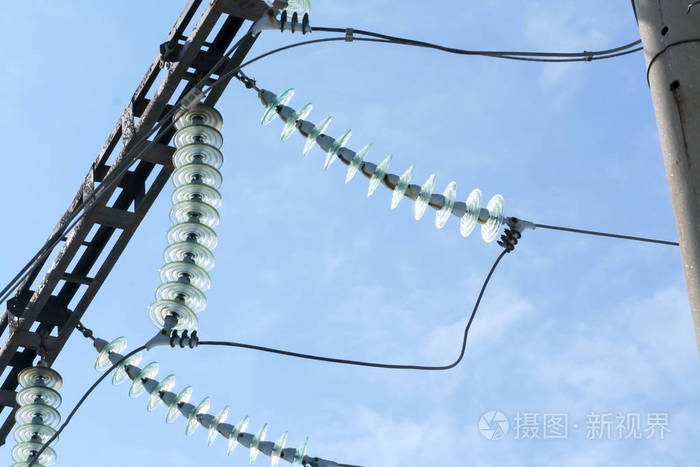insulator: (259, 85, 505, 245), (93, 335, 314, 467), (146, 97, 231, 334), (6, 364, 65, 467)
